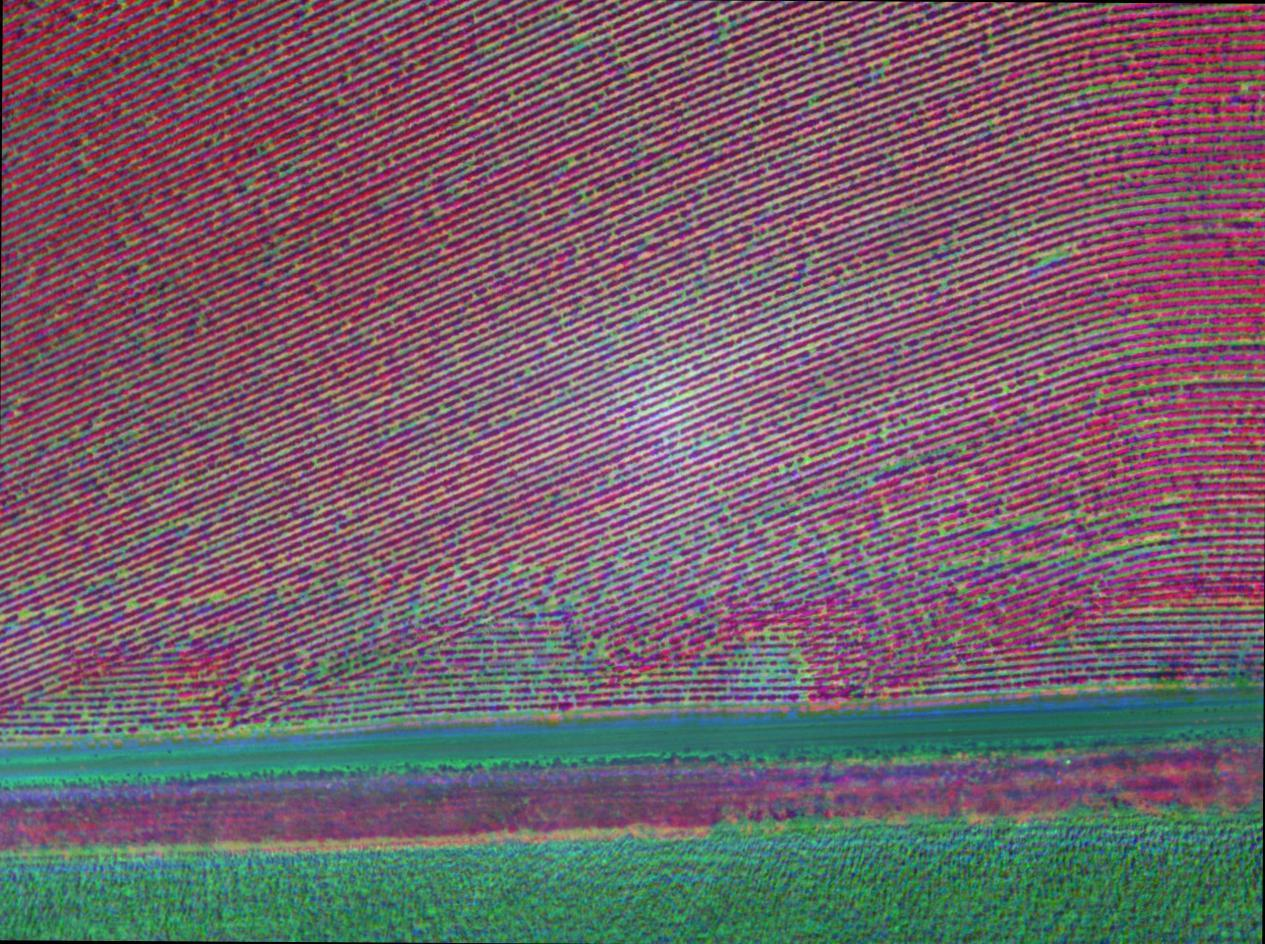dc: (187, 520, 191, 523), (591, 563, 594, 567), (512, 565, 515, 569), (215, 595, 219, 598), (130, 604, 134, 607), (703, 443, 706, 446), (678, 511, 681, 514), (340, 582, 343, 585)
